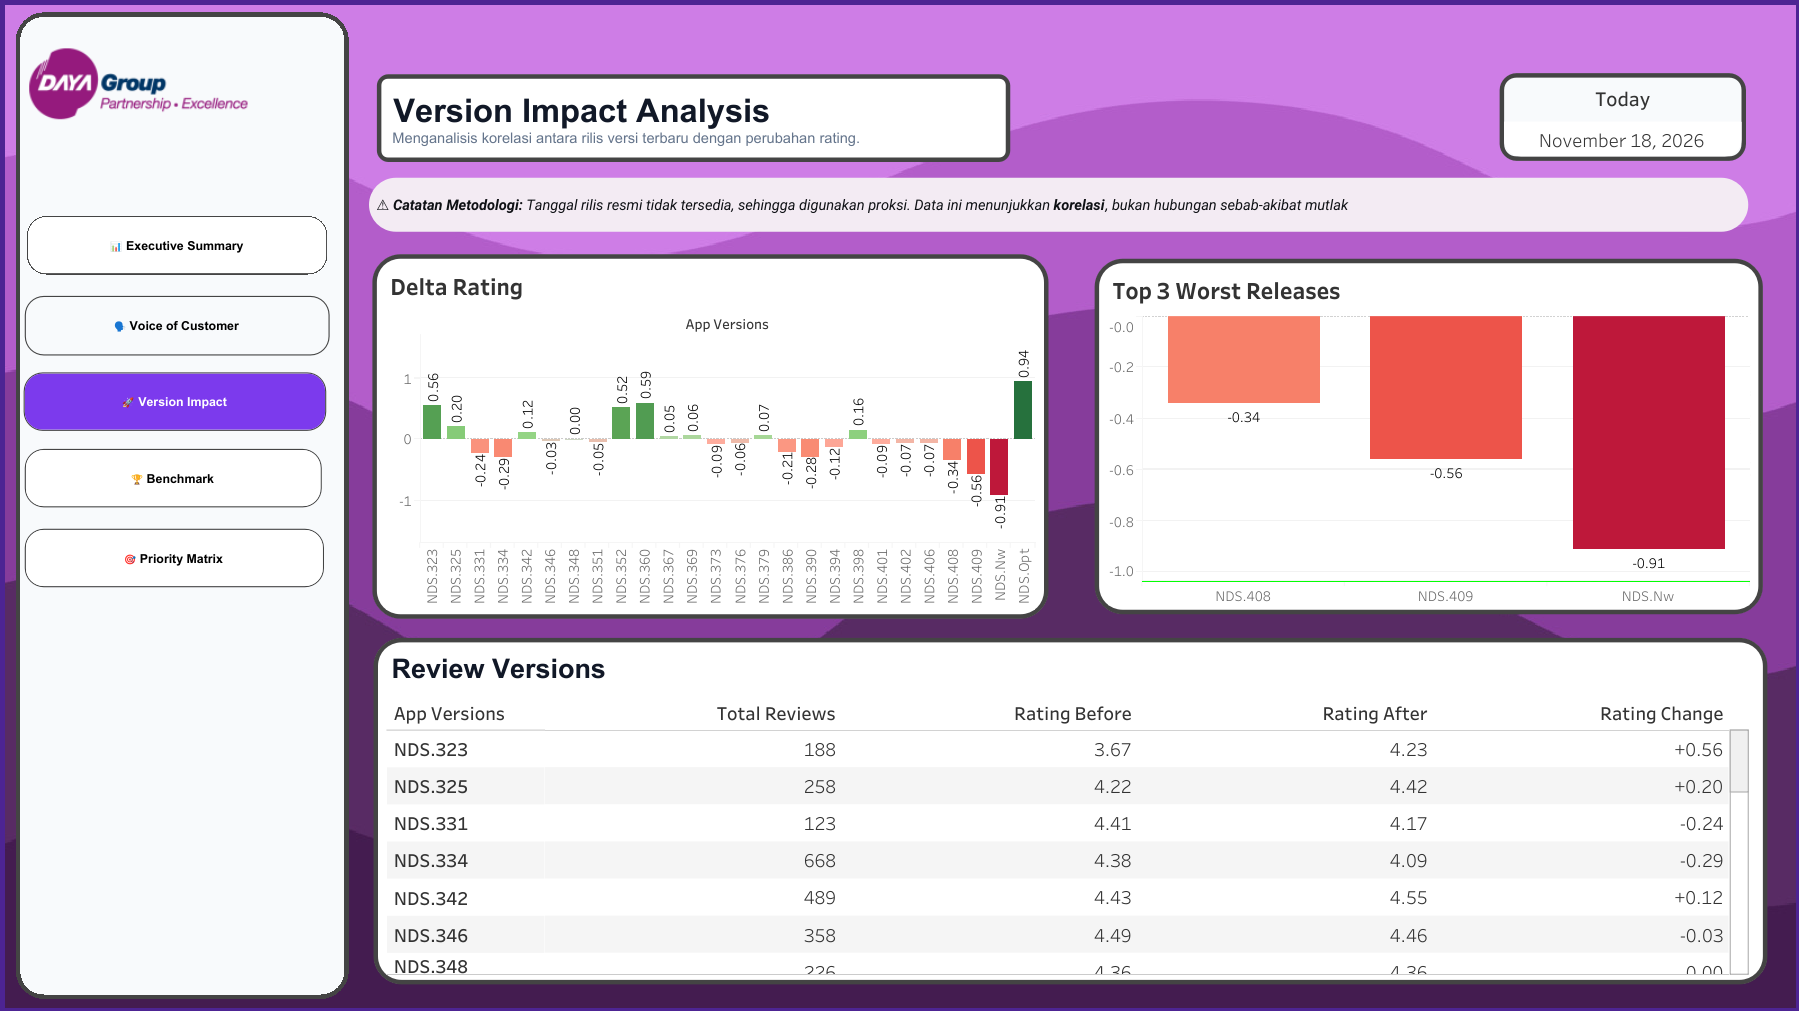

What the dashboard file says about the page in this screenshot:
{"tool":"tableau","page":{"name":"Version Impact","canvas":[1600,900],"ordinal":3},"visuals":[{"type":"blank","box":[18.4,15.2,288,868.4]},{"type":"image","param":"C:/Users/hp/Downloads/LOGO-DAYA-GROUP-WEBSITE.png","box":[25.6,42.8,272,63]},{"type":"text","box":[335,66,563,78]},{"type":"worksheet","title":"Today Card","mark":"Automatic","box":[1337,69,211,70]},{"type":"text","box":[328,158,1226,48]},{"type":"dashboard-object","box":[24,192.4,267.2,51.7]},{"type":"worksheet","title":"Delta Rating","mark":"Bar","rows":["delta_rating"],"cols":["Calculation_2057253276934147"],"box":[334,229,595,318]},{"type":"worksheet","title":"Worst Releases","mark":"Bar","rows":["delta_rating"],"cols":["Calculation_2057253276934147"],"box":[976,233,588,310]},{"type":"dashboard-object","box":[22,263,271,53]},{"type":"dashboard-object","box":[20.8,330.8,268.8,51.7]},{"type":"dashboard-object","box":[22.4,399.4,264,51.7]},{"type":"dashboard-object","box":[22.4,470.2,265.6,51.7]},{"type":"worksheet","title":"Tabel Versi","mark":"Text","rows":["Calculation_2057253276934147"],"box":[335,570,1233,302]}]}

Visuals, with their boxes in screenshot pixels (x1, y1, x2, y2), scaled from the page's 1600x900 canvas onto the 1799x1011 screenshot:
blank: (left=21, top=17, right=345, bottom=993)
image: (left=29, top=48, right=335, bottom=119)
text: (left=377, top=74, right=1010, bottom=162)
"Today Card" worksheet: (left=1503, top=78, right=1741, bottom=156)
text: (left=369, top=177, right=1747, bottom=231)
dashboard-object: (left=27, top=216, right=327, bottom=274)
"Delta Rating" worksheet (Bar marks): (left=376, top=257, right=1045, bottom=614)
"Worst Releases" worksheet (Bar marks): (left=1097, top=262, right=1759, bottom=610)
dashboard-object: (left=25, top=295, right=329, bottom=355)
dashboard-object: (left=23, top=372, right=326, bottom=430)
dashboard-object: (left=25, top=449, right=322, bottom=507)
dashboard-object: (left=25, top=528, right=324, bottom=586)
"Tabel Versi" worksheet (Text marks): (left=377, top=640, right=1763, bottom=980)
